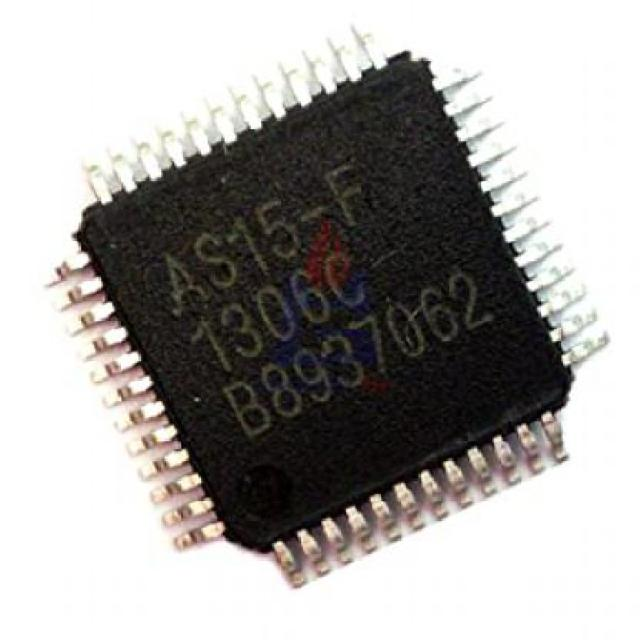IC chip: (72, 52, 572, 585)
